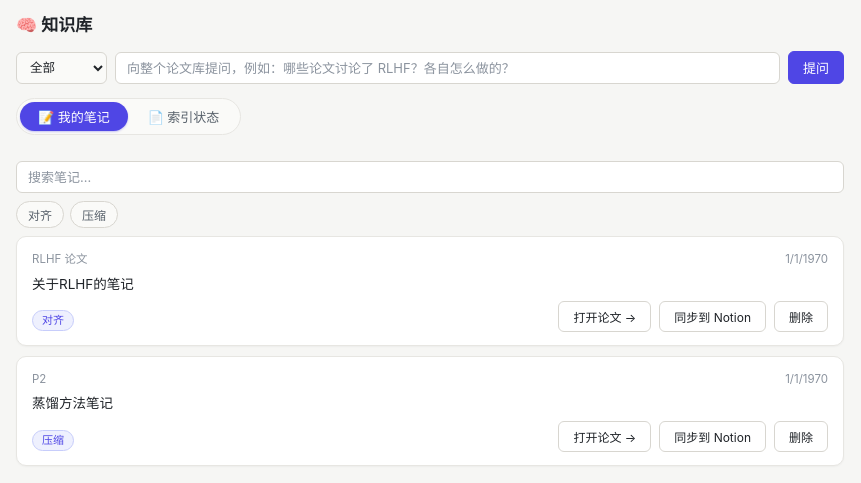
it: KnowledgeView › syncs a KB note to Notion with full paper metadata and then shows the synced badge
Click the 1st button "同步到 Notion": (713, 316) [659,301,766,332]
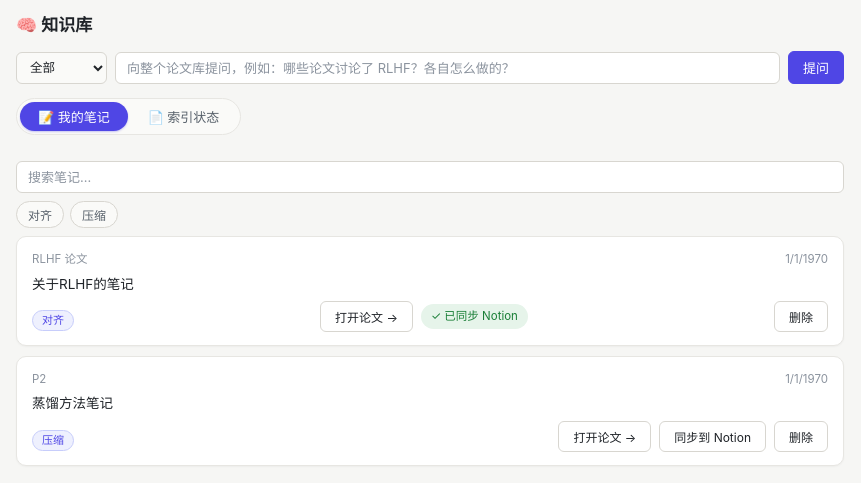
Expected: the text "✓ 已同步 Notion" is shown, [421,304,528,328]
